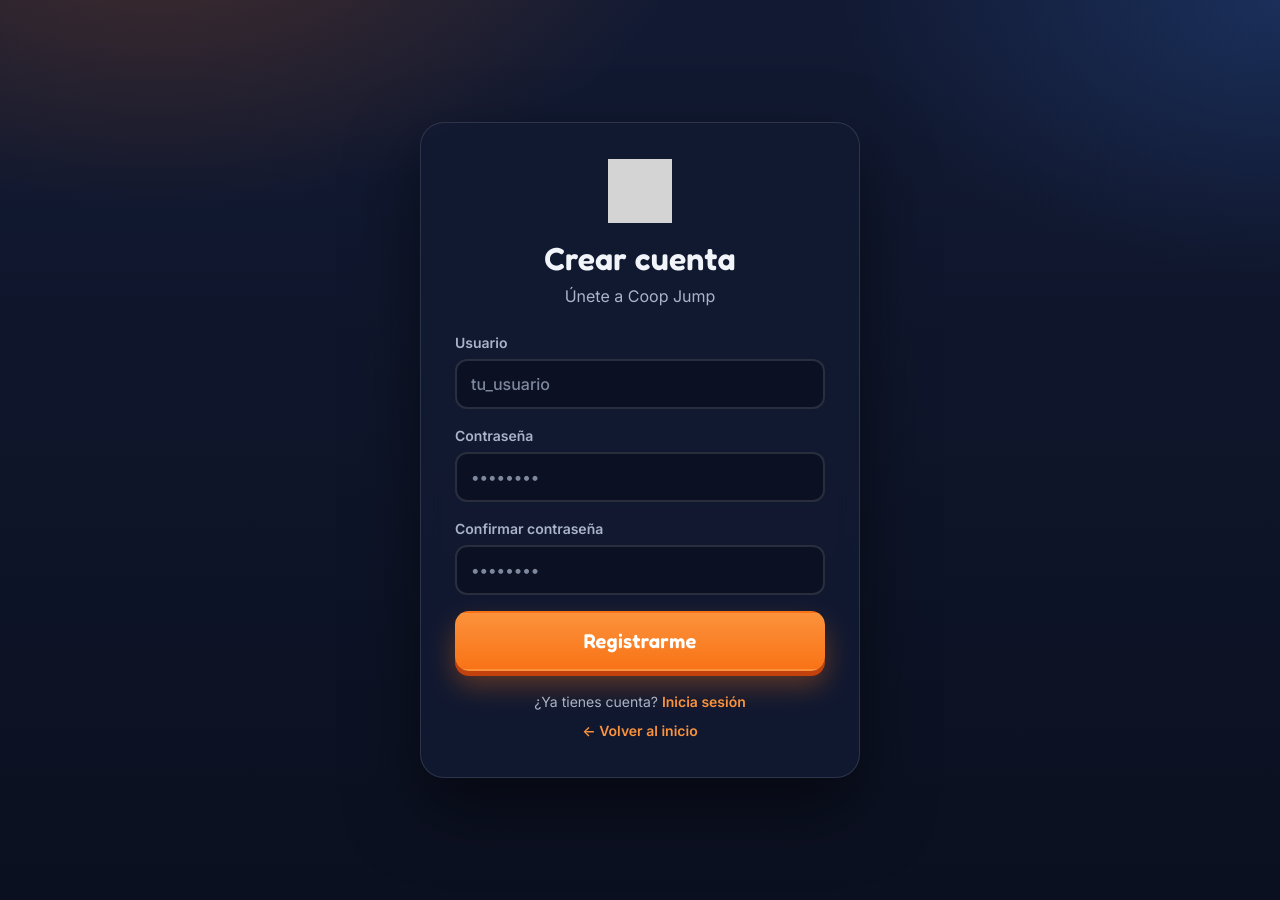
Test: Register › muestra el error si el usuario ya existe
In the field labelled "Usuario": {"x": 640, "y": 384} [455,359,825,409], type "ana"
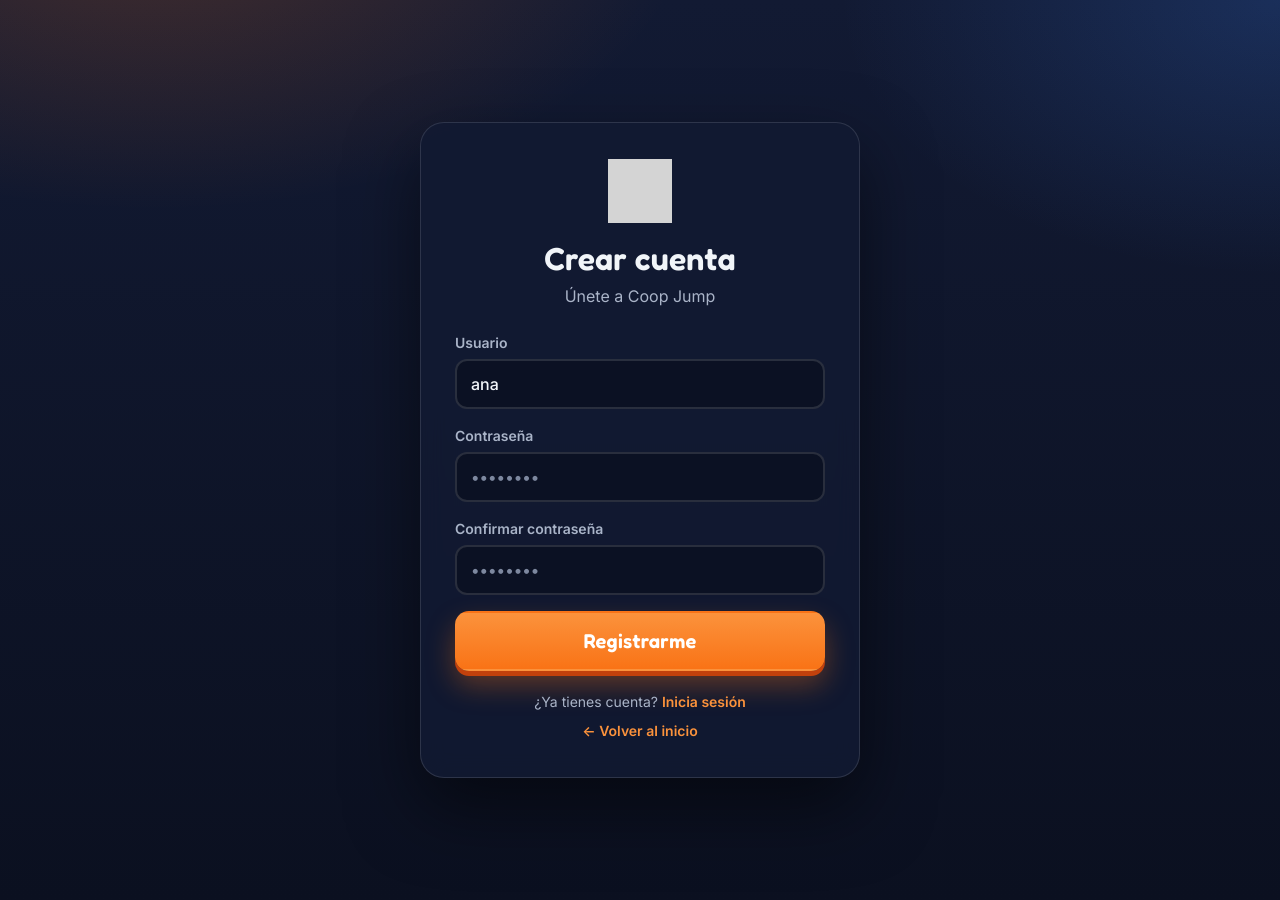
In the password field labelled "Contraseña": {"x": 640, "y": 477} [455,452,825,502], type "x"
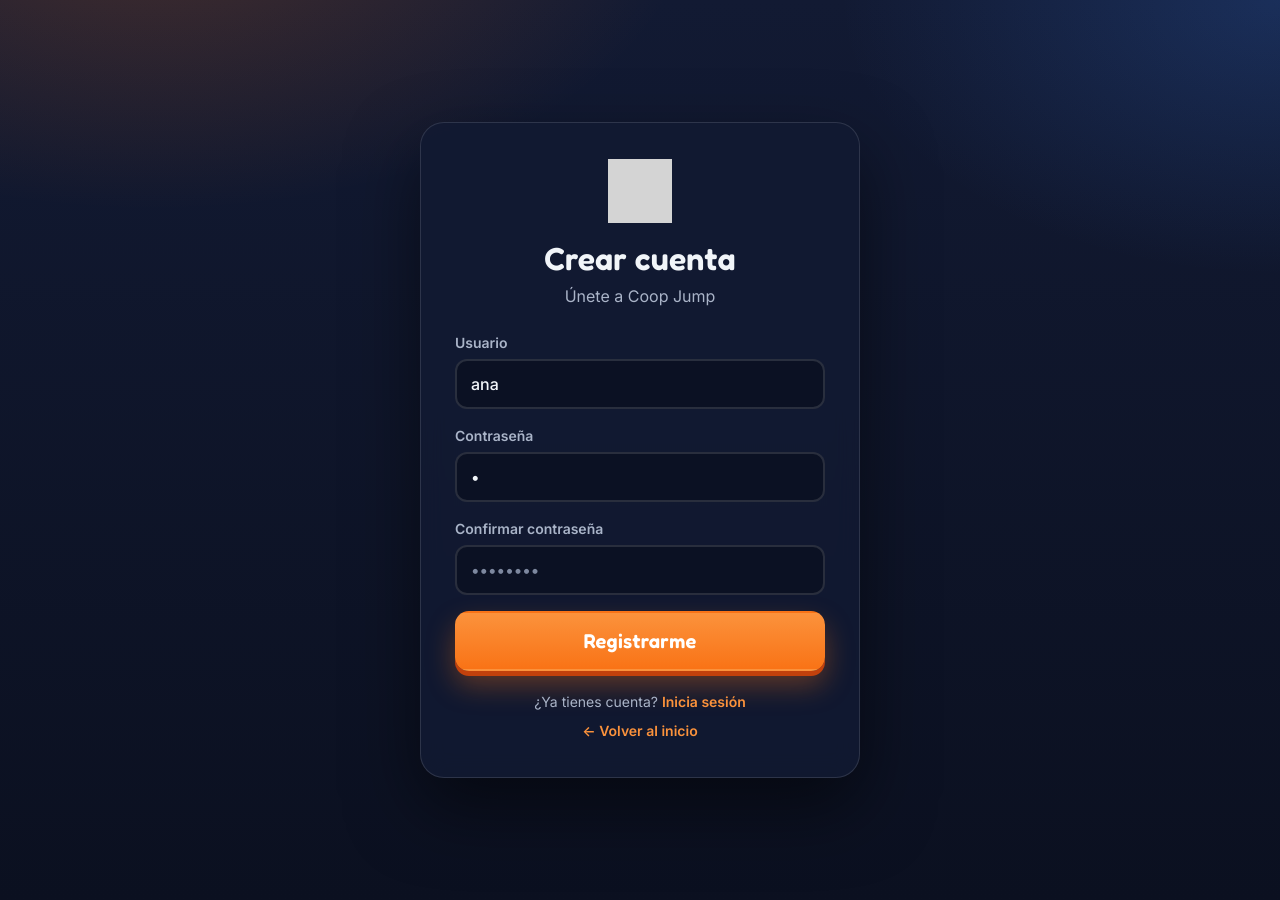
In the password field labelled "Confirmar contraseña": {"x": 640, "y": 570} [455,545,825,595], type "x"
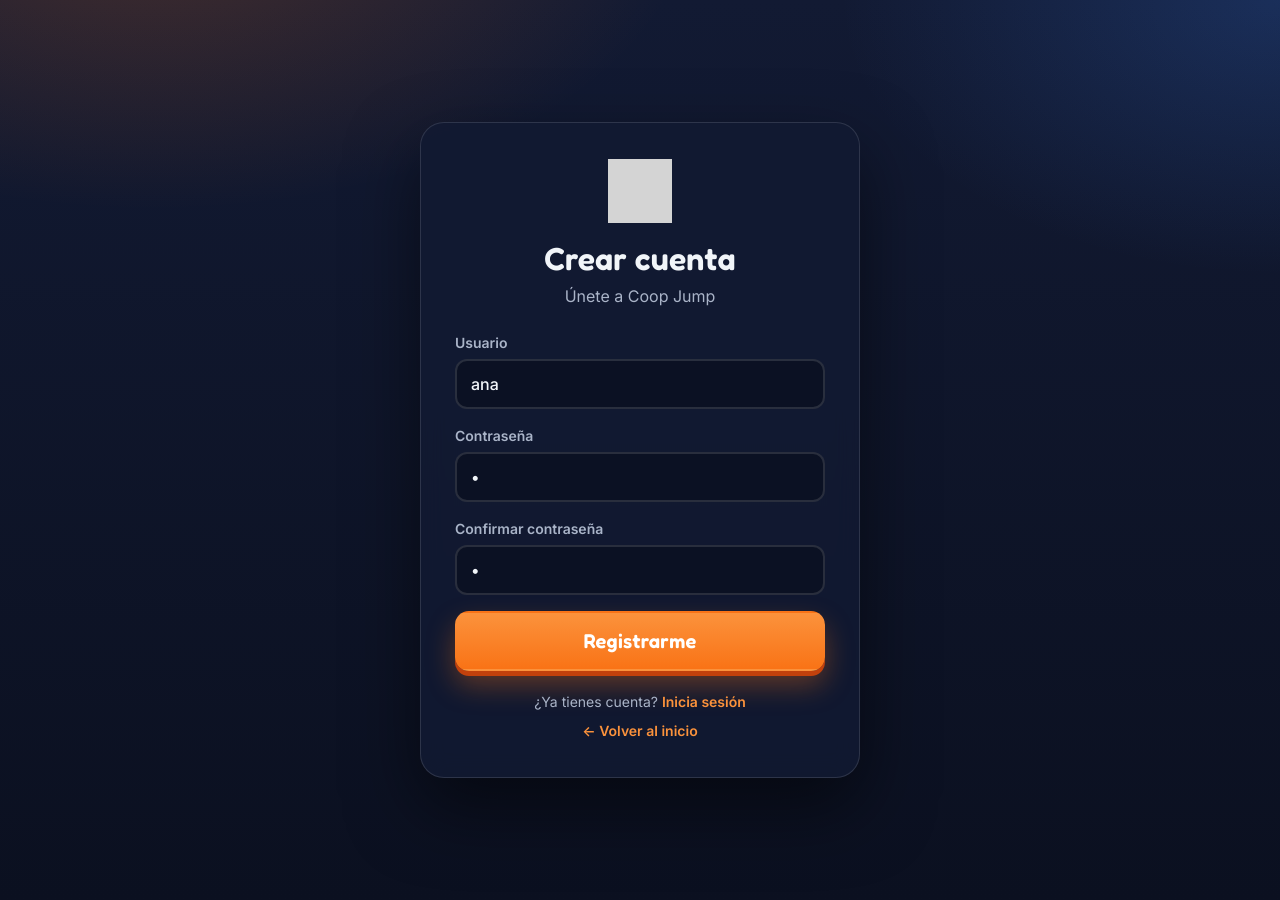
Click the button "Registrarme": {"x": 640, "y": 641} [455,611,825,671]
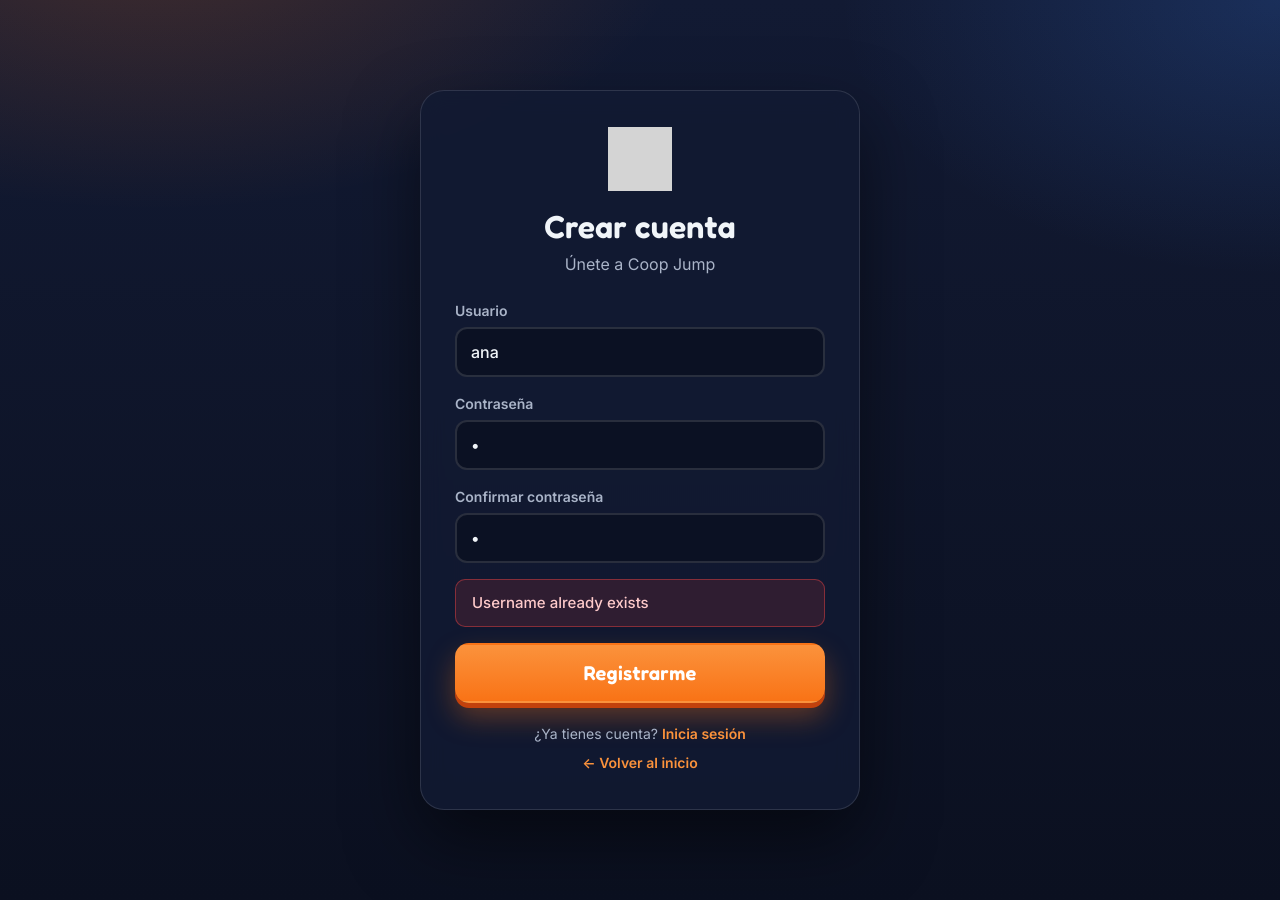
expect the message reads "Username already exists": met, box [472,593,649,612]
